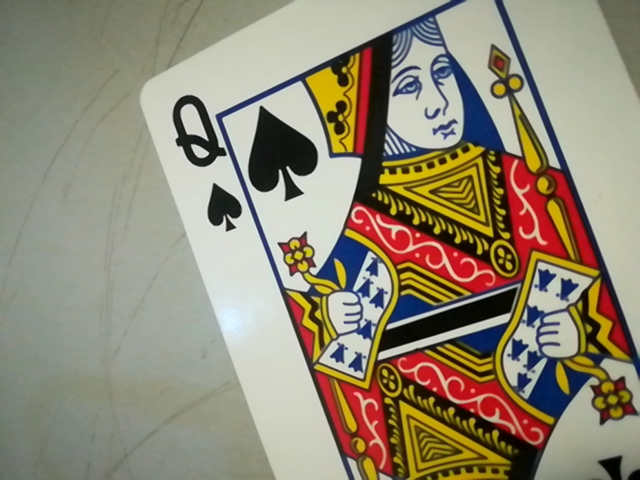ht q: (164, 82, 240, 238)
